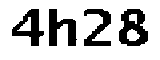2: (82, 5, 114, 51)
4: (10, 7, 46, 50)
8: (117, 7, 153, 50)
h: (47, 8, 80, 50)
